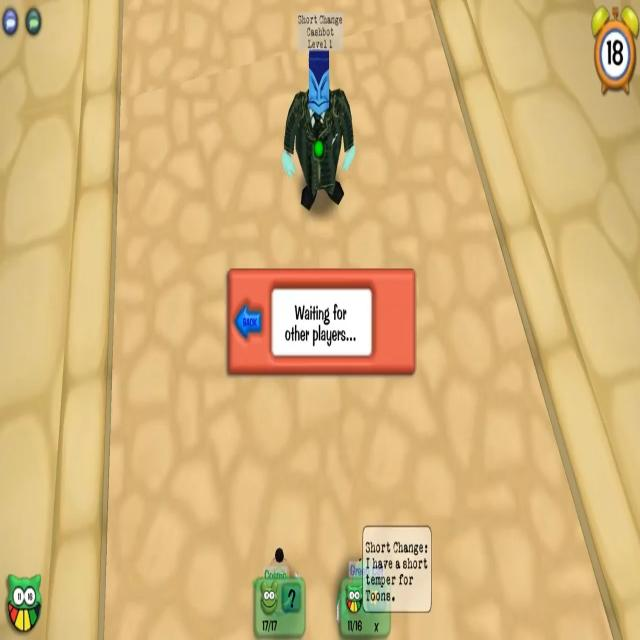shortchange: (285, 12, 355, 156)
